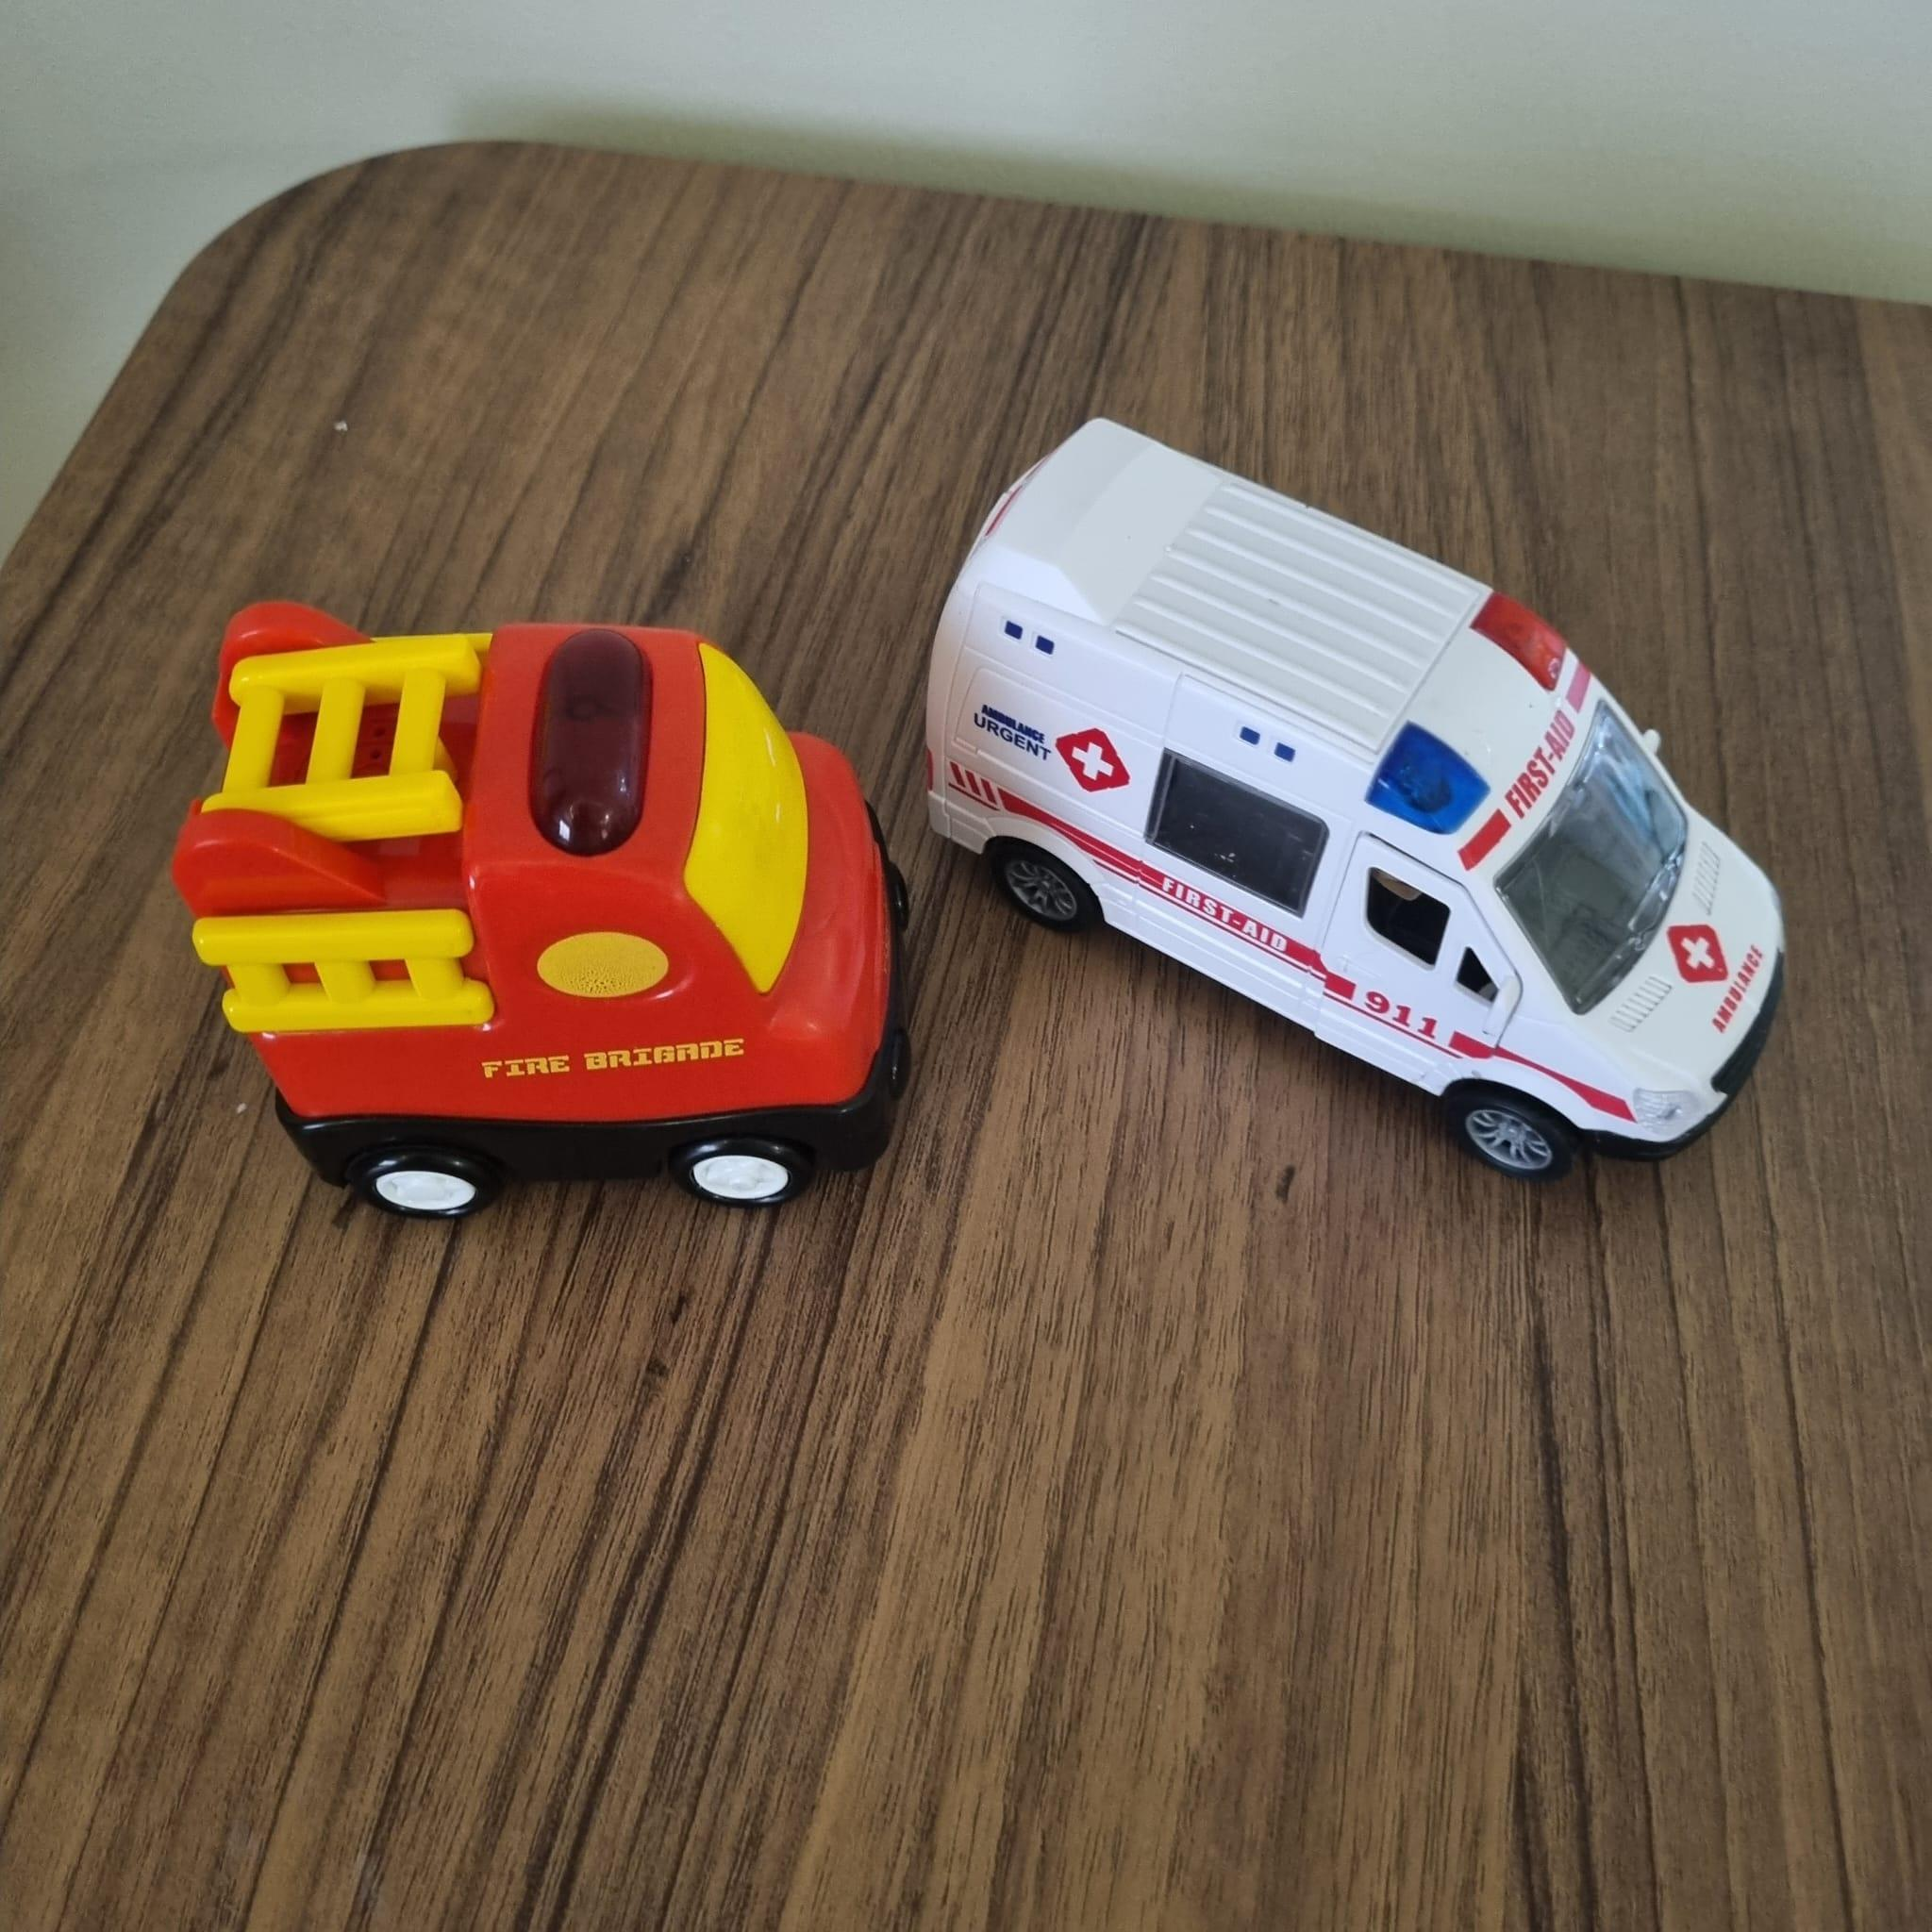ambulance_off: (924, 416, 1787, 1178)
firetruck_off: (172, 600, 902, 1221)
